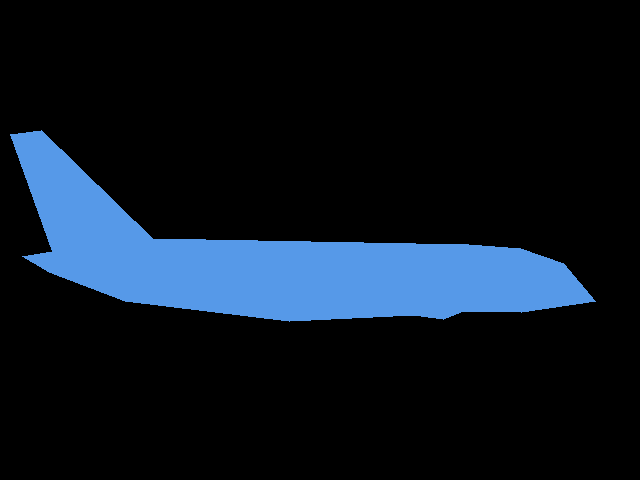Airplane: (10, 130, 596, 322)
